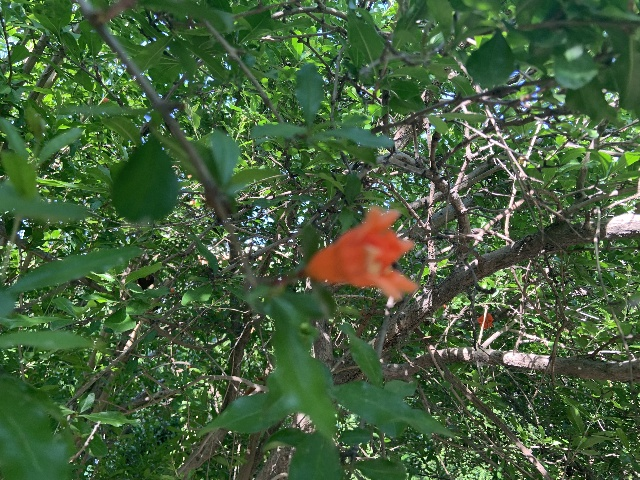flower: (302, 206, 420, 303), (476, 312, 494, 330)
